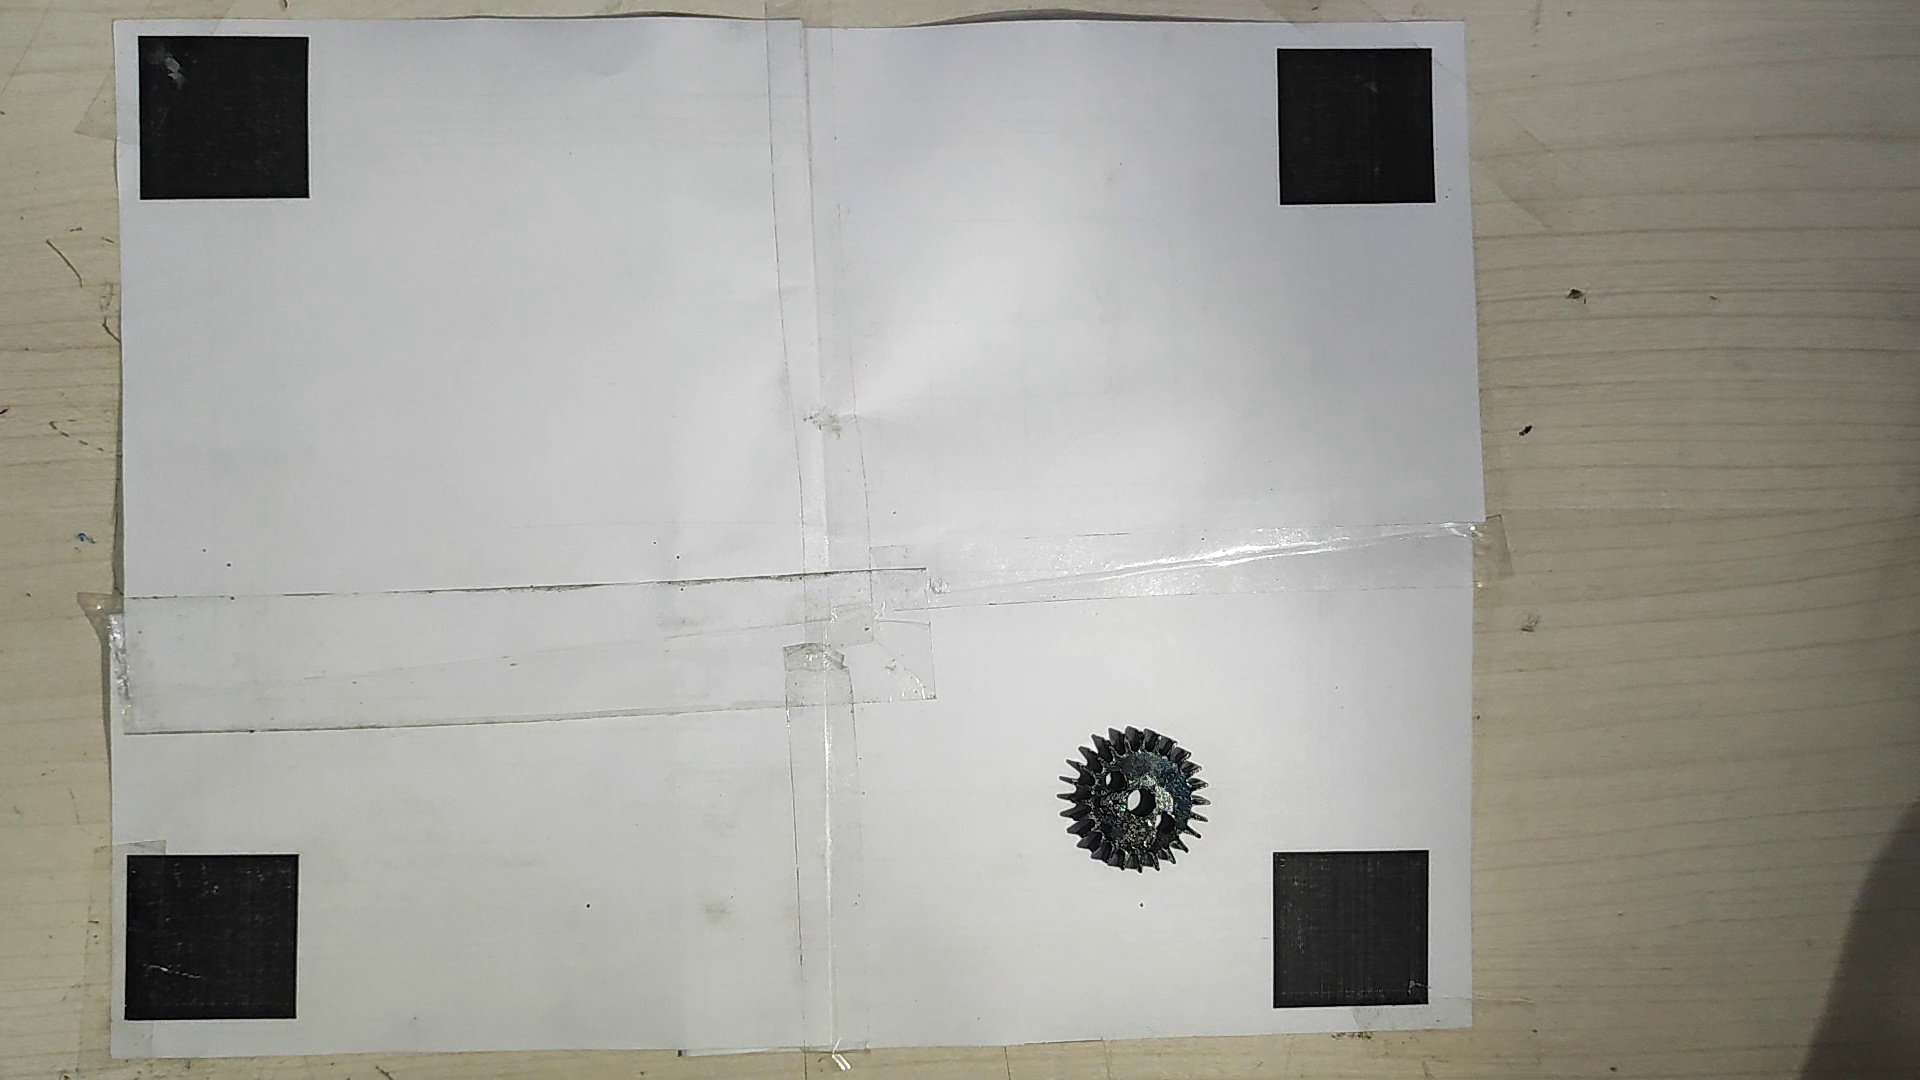Gear: (1054, 719, 1209, 876)
